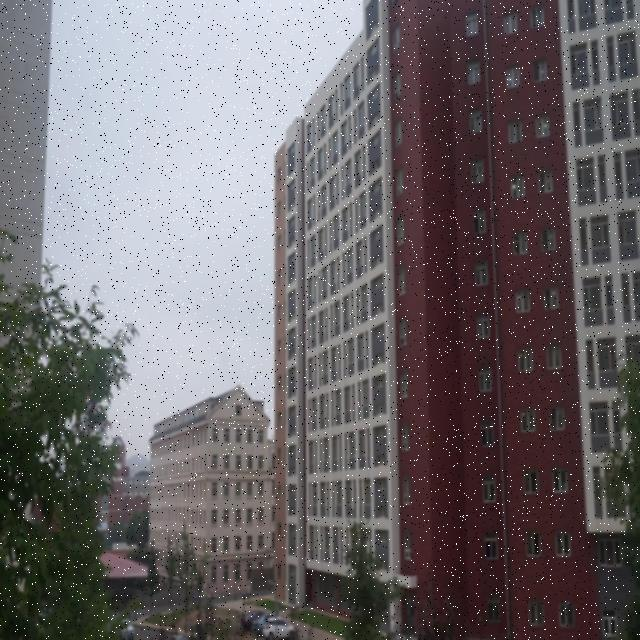UAV: (312, 273, 320, 280)
